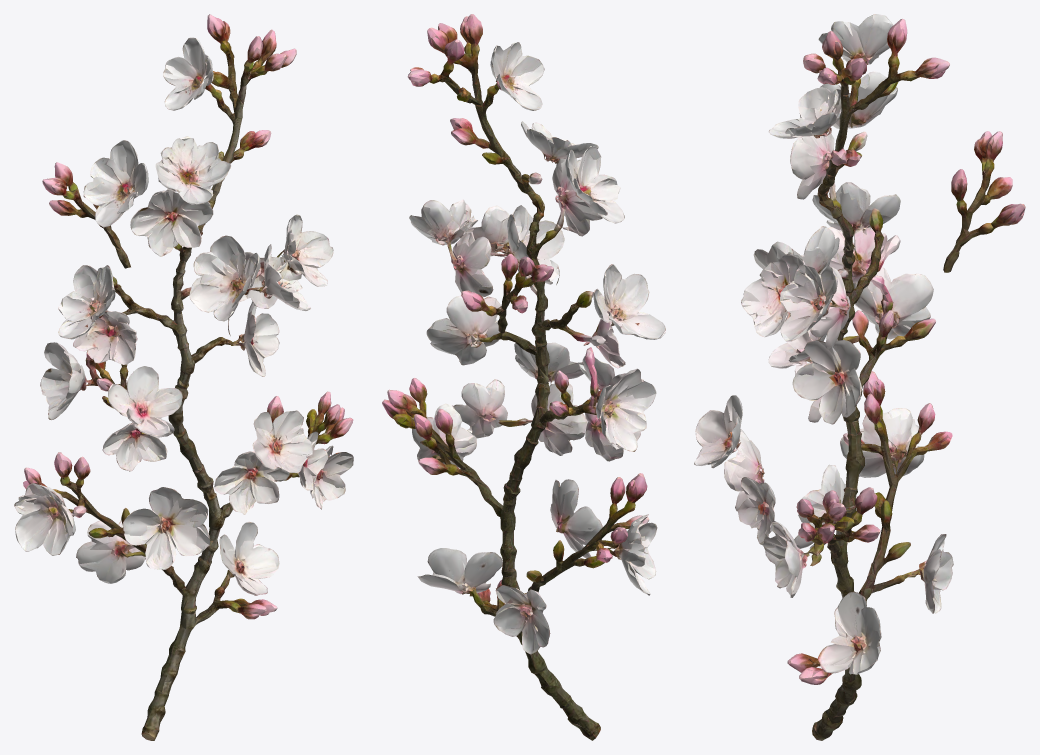
Rendered from blossom.glb.
The picture shows the model from 3 angles, left to right: view 1: azimuth 30°, elevation 25°; view 2: azimuth 150°, elevation 25°; view 3: azimuth 270°, elevation 25°; orthographic projection. The views are drawn at different scales.
Size of the model in its own units: 0.8559 by 1.9 by 0.7361.
1 material, 1 textured.
